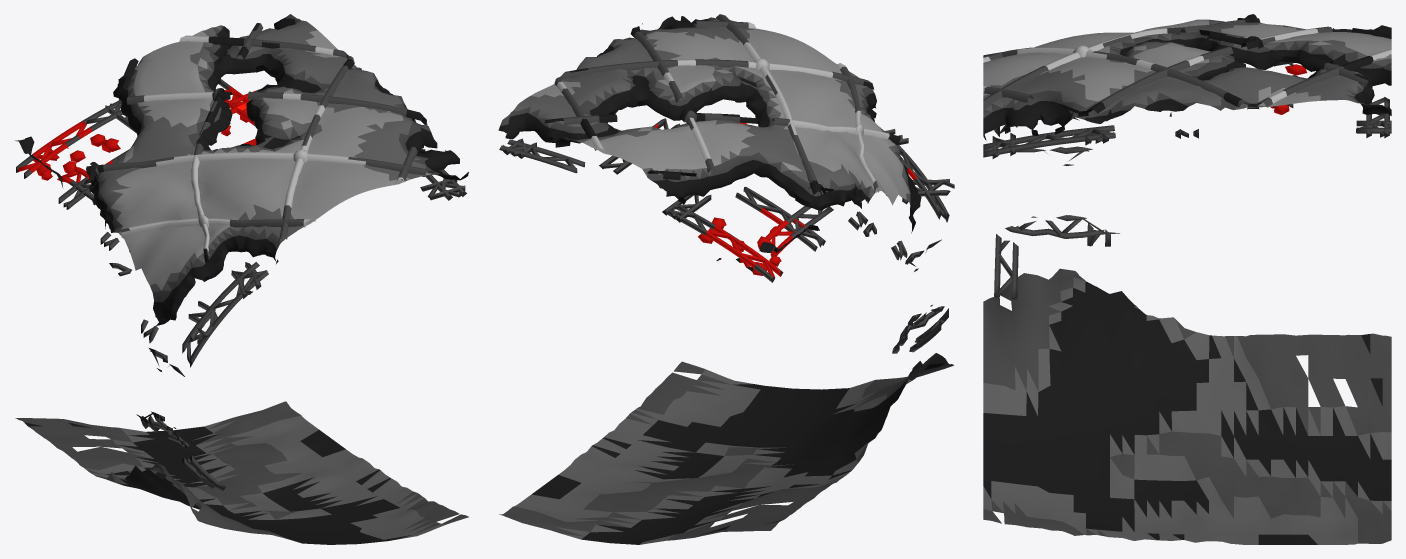
Rendered from zeppelin_125.glb.
The picture shows the model from 3 angles, left to right: view 1: azimuth 30°, elevation 25°; view 2: azimuth 150°, elevation 25°; view 3: azimuth 270°, elevation 25°; orthographic projection. The views are drawn at different scales.
Visible parts, largest first — view 1: envelope.001, net_ropes.001, framework.001, embers.001; view 2: envelope.001, framework.001, net_ropes.001, embers.001; view 3: envelope.001, net_ropes.001, framework.001.
Part boxes in pixels (x1,y1,x2,y2): envelope.001: [15, 14, 468, 544]; net_ropes.001: [86, 23, 435, 264]; framework.001: [16, 79, 466, 491]; embers.001: [36, 109, 248, 183]; envelope.001: [498, 16, 953, 544]; framework.001: [499, 118, 954, 353]; net_ropes.001: [544, 14, 900, 195]; embers.001: [698, 122, 781, 275]; envelope.001: [983, 19, 1391, 544]; net_ropes.001: [983, 18, 1391, 115]; framework.001: [983, 62, 1391, 299].
Bounding box in the file's own units: 24 × 34.01 × 28.
